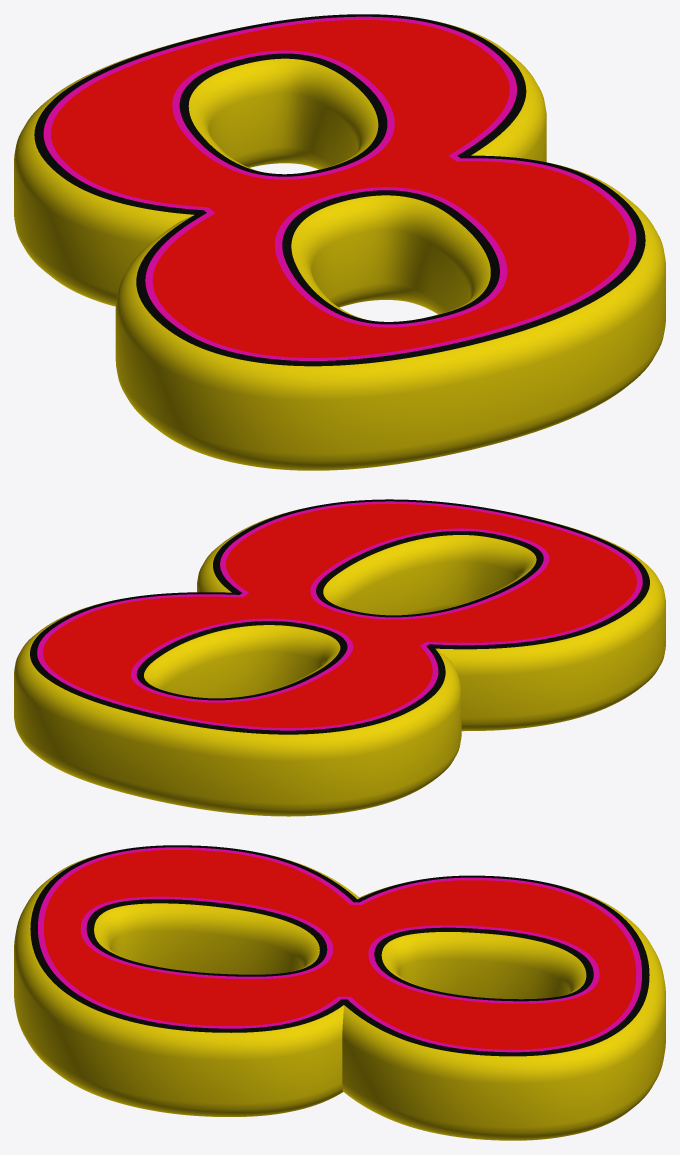
Rendered from Slot_Numbers_Eight.fbx.
3 views of the same model, one above another, from view 1: azimuth 30°, elevation 25°; view 2: azimuth 150°, elevation 25°; view 3: azimuth 270°, elevation 25° (orthographic). The views are drawn at different scales.
Parts seen in each view (by area): view 1: Eight; view 2: Eight; view 3: Eight.
Boxes of the visible parts, bbox=[...] form: Eight: bbox=[14, 14, 665, 470]; Eight: bbox=[14, 499, 665, 816]; Eight: bbox=[14, 845, 665, 1140].
Size of the model in its own units: 44.68 by 8 by 54.69.
